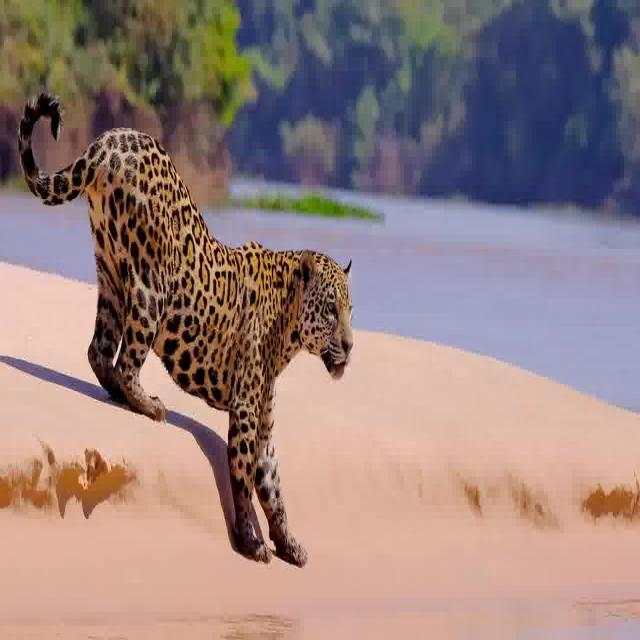Jaguar: (13, 28, 369, 591)
